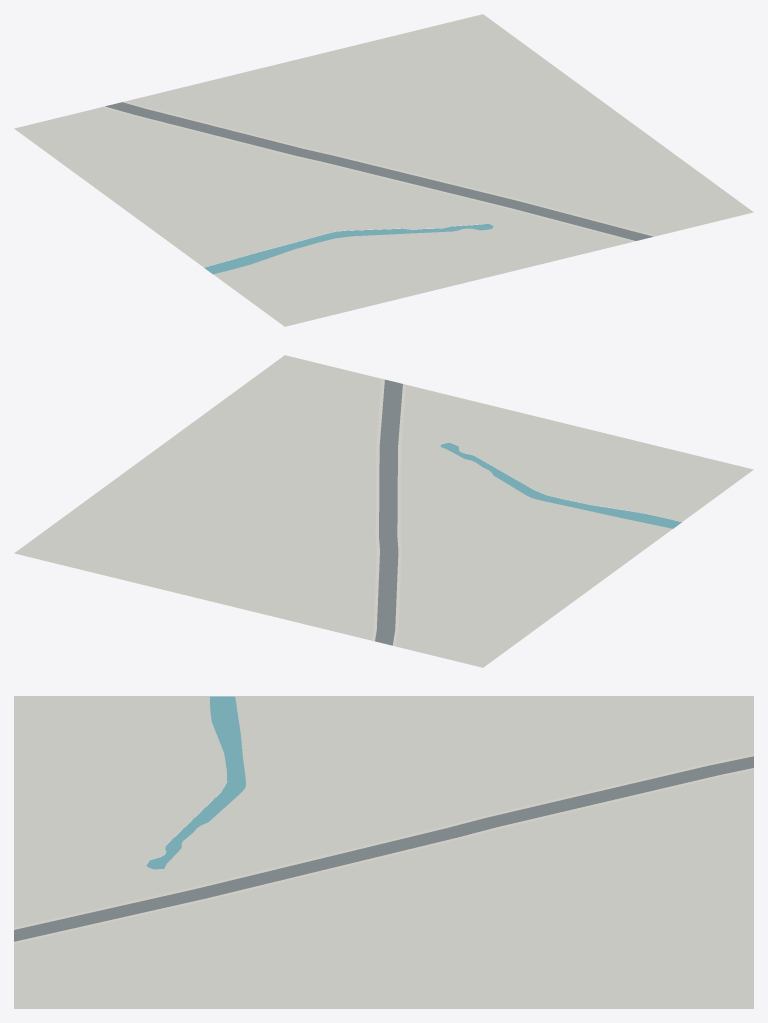
3 views of the same model, one above another, from view 1: azimuth 30°, elevation 25°; view 2: azimuth 150°, elevation 25°; view 3: azimuth 270°, elevation 25° (orthographic). The views are drawn at different scales.
Parts seen in each view (by area): view 1: city; view 2: city; view 3: city.
Part boxes in pixels (x1=…): city: x1=14, y1=14, x2=753, y2=326; city: x1=14, y1=355, x2=753, y2=667; city: x1=14, y1=696, x2=753, y2=1008.
Bounding box in the file's own units: 500 × 0.4 × 500.
